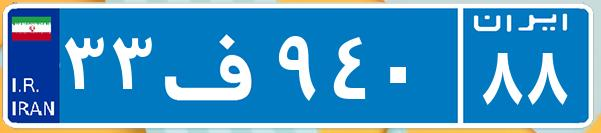0: (385, 28, 445, 110)
3: (57, 26, 110, 107), (110, 28, 158, 105)
4: (330, 28, 385, 110)
8: (475, 38, 525, 113), (525, 38, 570, 115)
9: (273, 28, 330, 110)
ف: (158, 15, 273, 115)
